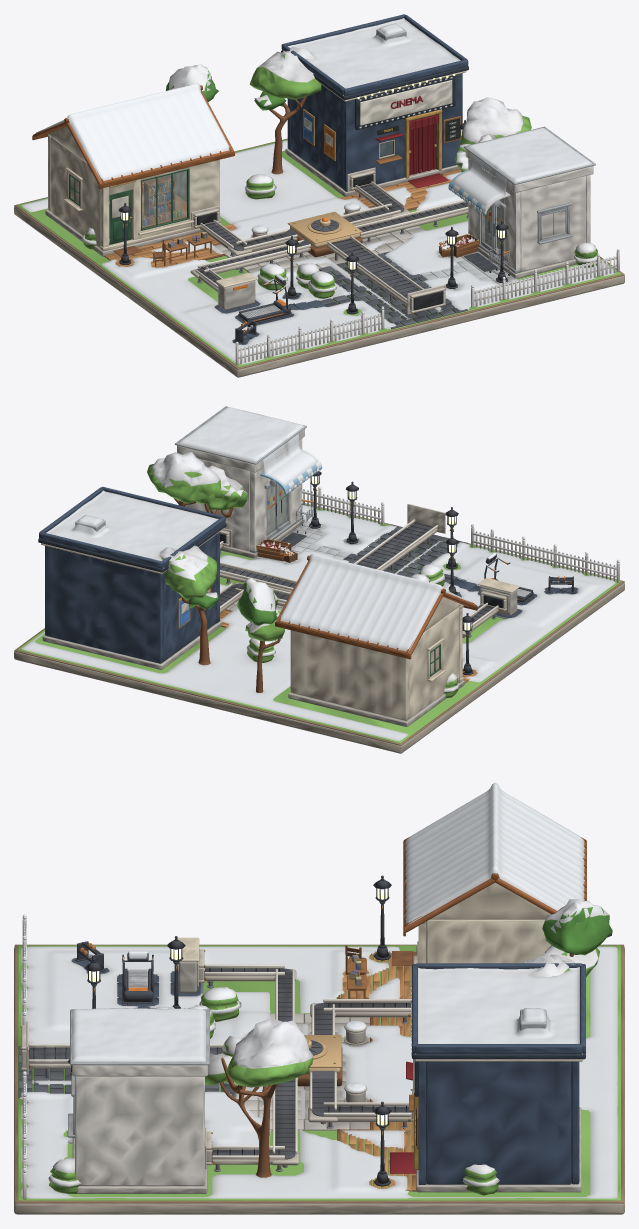
Rendered from daily.glb.
3 renders of one model, top to bottom at view 1: azimuth 30°, elevation 25°; view 2: azimuth 150°, elevation 25°; view 3: azimuth 270°, elevation 25°, orthographic. The views are drawn at different scales.
Parts seen in each view (by area): view 1: Snow_ground.001, Snow_roof_bookstore, Cinema_cinema, Bookstore_cream, Supermarket_white, Ground_base.001, Snow_roof_cinema, Ground_paving.001, Snow_roof_supermarket, Ground_grass.001, Fence_south.001, Cinema_screen (+32 smaller); view 2: Snow_ground.001, Cinema_cinema, Bookstore_cream, Snow_roof_bookstore, Ground_base.001, Snow_roof_cinema, Snow_roof_supermarket, Ground_grass.001, Supermarket_white, Fence_south.001, Snow_tree_E, Ground_paving.001 (+24 smaller); view 3: Snow_ground.001, Cinema_cinema, Supermarket_white, Snow_roof_bookstore, Ground_base.001, Snow_roof_cinema, Ground_grass.001, Bookstore_cream, Snow_roof_supermarket, Snow_tree_E, Ground_paving.001, Ground_woodpath (+26 smaller).
Boxes of the visible parts, x1,y1,x2,y2 form: Snow_ground.001: (22, 140, 614, 364); Snow_roof_bookstore: (37, 83, 229, 181); Cinema_cinema: (281, 14, 468, 191); Bookstore_cream: (48, 126, 219, 247); Supermarket_white: (465, 149, 593, 273); Ground_base.001: (14, 138, 624, 377); Snow_roof_cinema: (285, 18, 460, 95); Ground_paving.001: (215, 206, 518, 329); Snow_roof_supermarket: (452, 128, 591, 205); Ground_grass.001: (17, 139, 621, 367); Fence_south.001: (235, 250, 619, 364); Cinema_screen: (304, 77, 452, 146); Snow_ground.001: (21, 505, 615, 740); Cinema_cinema: (39, 487, 225, 663); Bookstore_cream: (290, 597, 462, 720); Snow_roof_bookstore: (280, 554, 471, 651); Ground_base.001: (14, 503, 624, 753); Snow_roof_cinema: (46, 490, 218, 568); Snow_roof_supermarket: (179, 407, 317, 485); Ground_grass.001: (17, 503, 621, 743); Supermarket_white: (177, 429, 304, 552); Fence_south.001: (302, 488, 619, 582); Snow_tree_E: (147, 451, 247, 517); Ground_paving.001: (226, 520, 467, 610); Snow_ground.001: (19, 946, 617, 1198); Cinema_cinema: (412, 963, 585, 1184); Supermarket_white: (72, 1065, 207, 1185); Snow_roof_bookstore: (405, 782, 585, 925); Ground_base.001: (14, 944, 624, 1214); Snow_roof_cinema: (415, 964, 582, 1054); Ground_grass.001: (18, 945, 620, 1200); Bookstore_cream: (418, 882, 550, 963); Snow_roof_supermarket: (72, 1008, 206, 1061); Snow_tree_E: (207, 1018, 312, 1177); Ground_paving.001: (18, 1013, 372, 1143); Ground_woodpath: (337, 951, 416, 1191).
Size of the model in its own units: 16 by 5.24 by 16.
